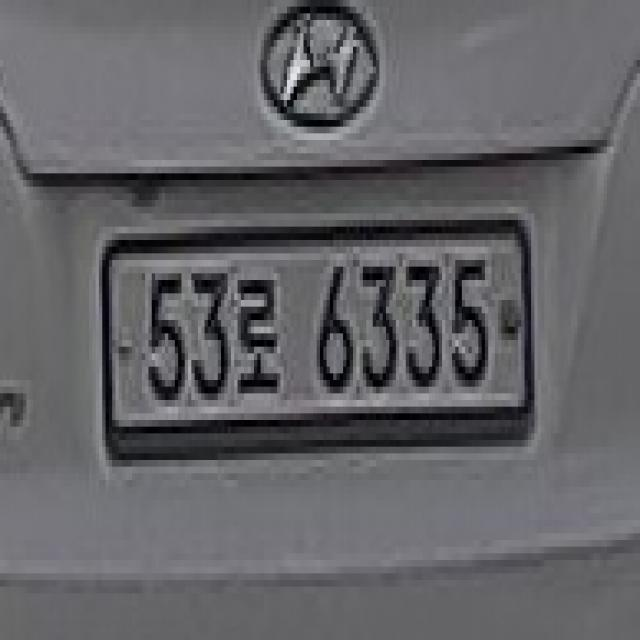3: (185, 254, 234, 414), (402, 247, 452, 393), (357, 246, 402, 406)
5: (145, 246, 191, 426), (449, 246, 498, 386)
6: (313, 254, 363, 394)
license_plate: (109, 206, 531, 466)
lo: (224, 273, 290, 400)
